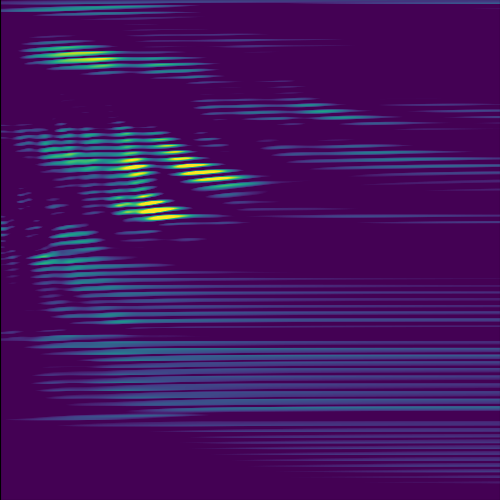semblance: (128, 188, 191, 226), (54, 42, 123, 71), (118, 151, 157, 182)
